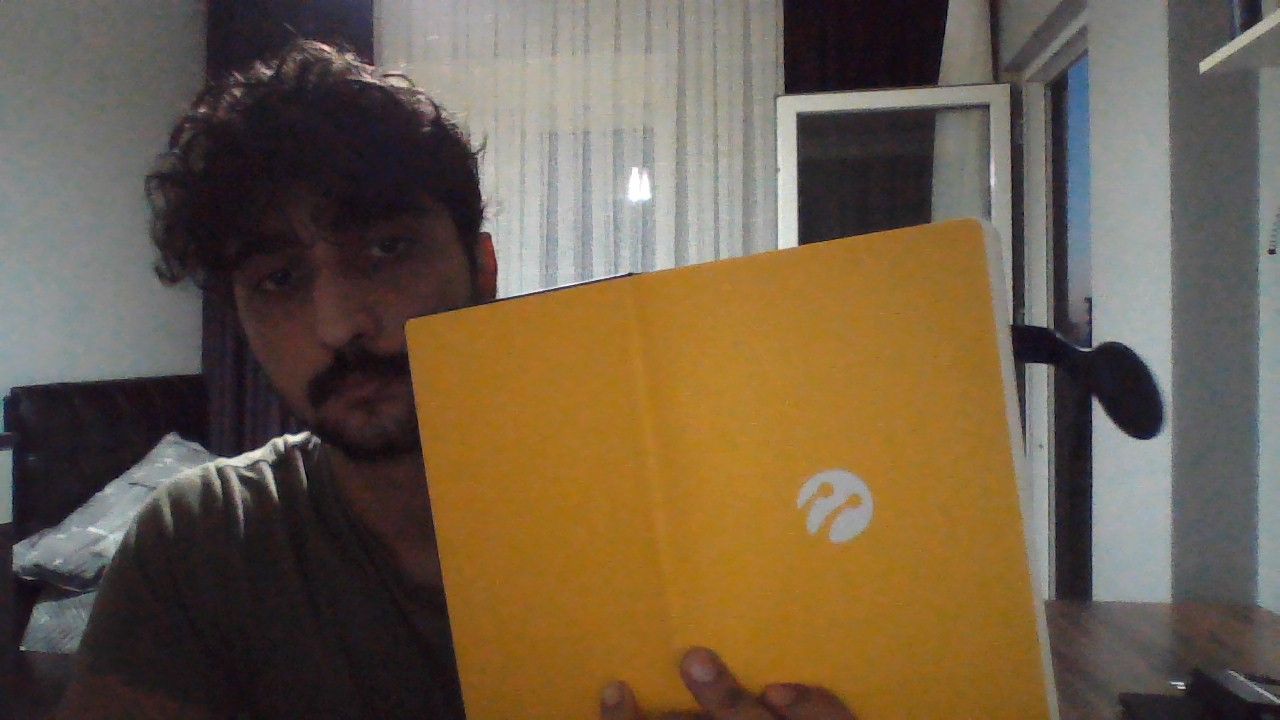turkcell: (795, 465, 873, 546)
